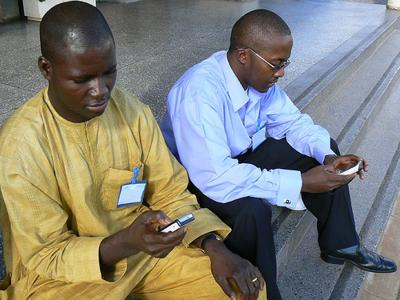person: (2, 2, 268, 300)
